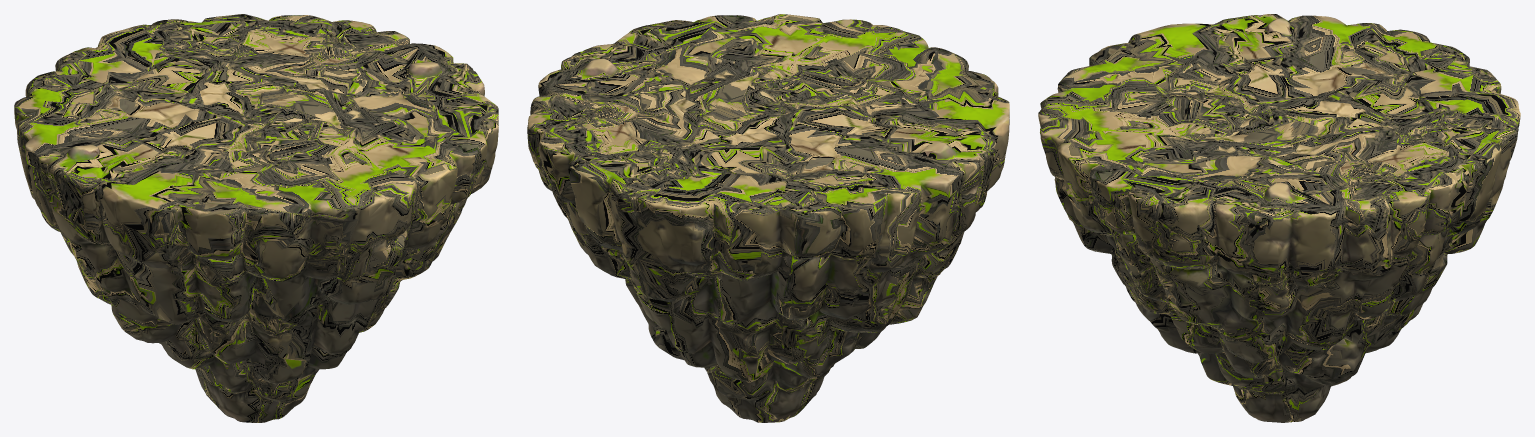
File: floating_island_hero.glb
3 renders of one model, left to right at view 1: azimuth 30°, elevation 25°; view 2: azimuth 150°, elevation 25°; view 3: azimuth 270°, elevation 25°, orthographic.
Parts seen in each view (by area): view 1: output_unwrapped; view 2: output_unwrapped; view 3: output_unwrapped.
Boxes of the visible parts, box(x1,y1,x2,y2) form: output_unwrapped: box(14, 14, 498, 422); output_unwrapped: box(527, 14, 1009, 422); output_unwrapped: box(1038, 14, 1520, 422).
Bounding box in the file's own units: 1.9 × 1.32 × 1.9.
1 material, 1 textured.
